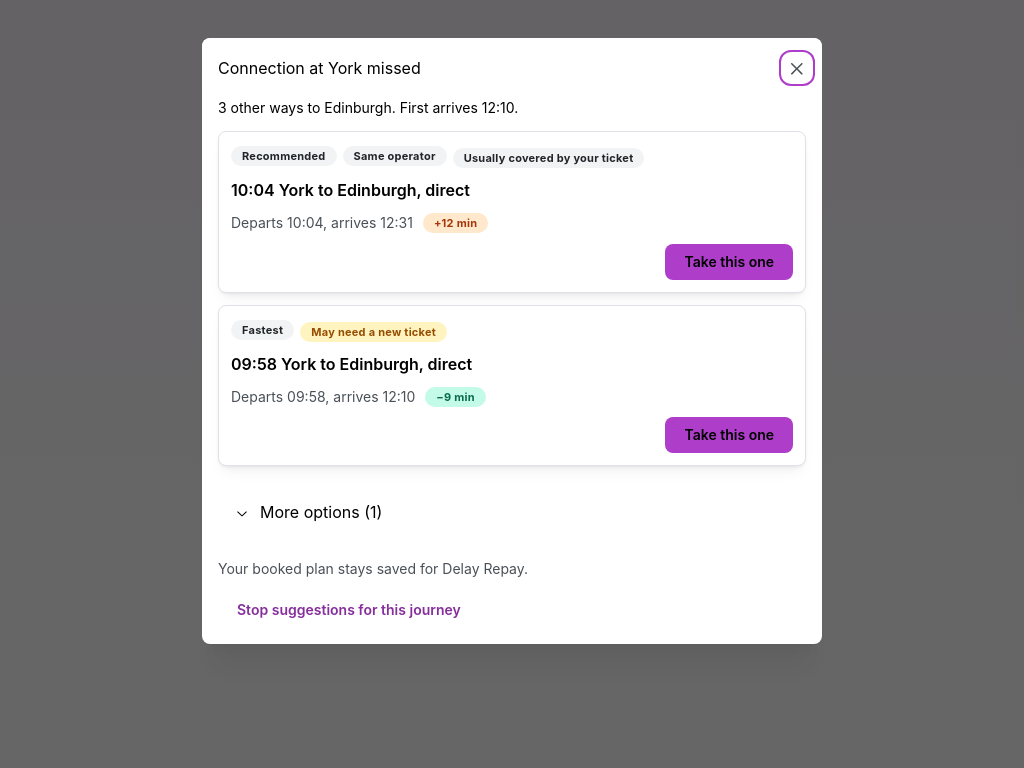
Test: AlternativesSheet › says it could not update the journey
Click the button with aria-label "Take this one: 10:04 York to Edinburgh, direct" at (729, 262), box [666,244,793,280]
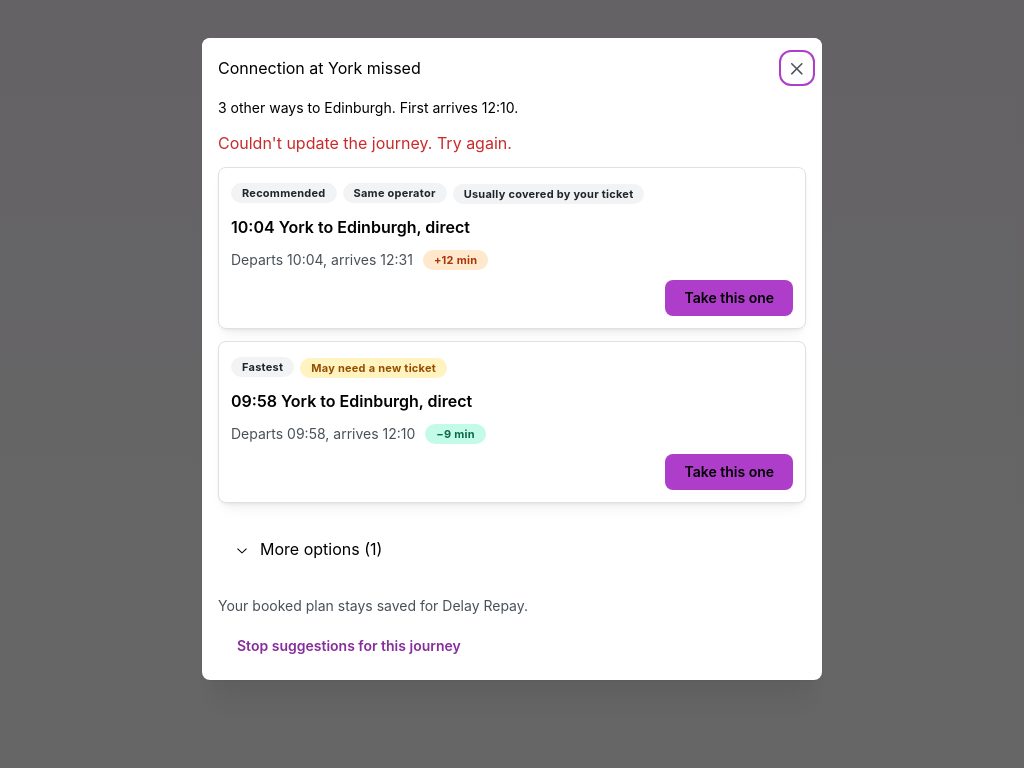
Expected: the text "Couldn't update the journey. Try again." is shown, [218,133,512,153]
